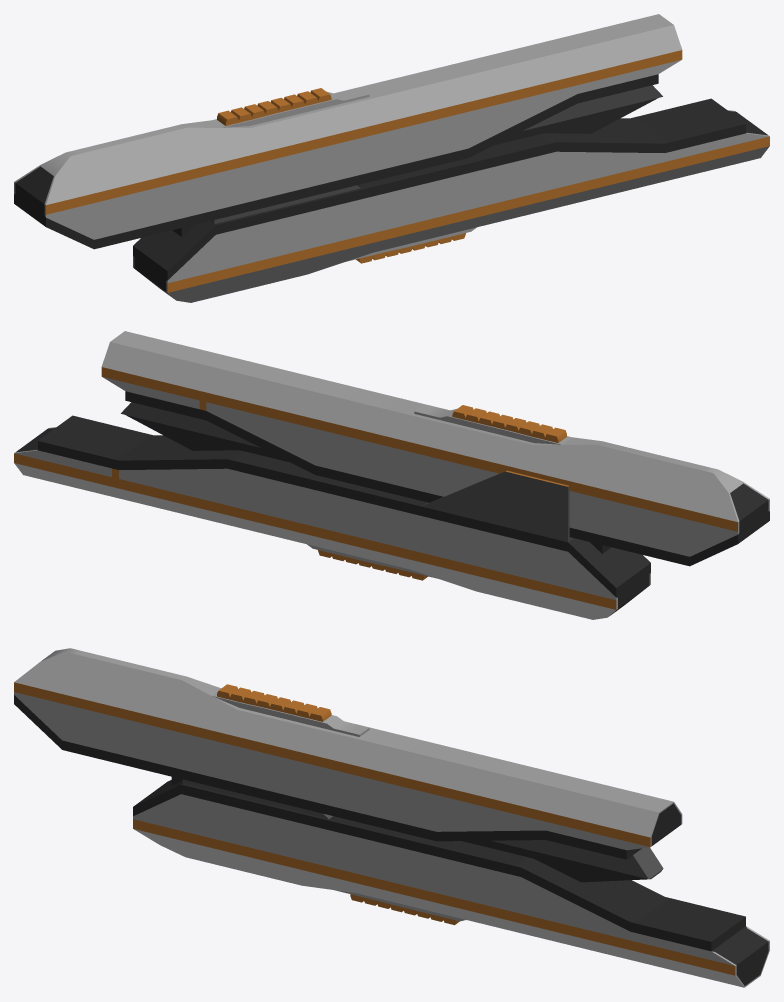
File: Body_Front_Sniper_1.glb
The picture shows the model from 3 angles, top to bottom: view 1: azimuth 30°, elevation 25°; view 2: azimuth 150°, elevation 25°; view 3: azimuth 330°, elevation 25°; orthographic projection.
Visible parts, largest first — view 1: Body_Front_Sniper_1; view 2: Body_Front_Sniper_1; view 3: Body_Front_Sniper_1.
Boxes of the visible parts, x1,y1,x2,y2 form: Body_Front_Sniper_1: [14, 14, 769, 302]; Body_Front_Sniper_1: [14, 331, 769, 619]; Body_Front_Sniper_1: [14, 648, 769, 987].
Bounding box in the file's own units: 1.24 × 0.2891 × 0.1028.
